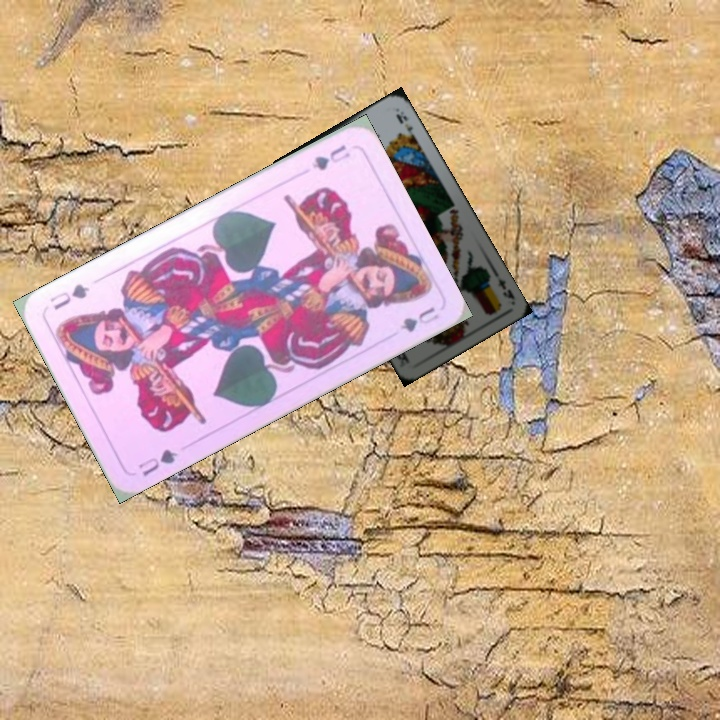EK: (489, 267, 517, 302)
GU: (134, 445, 181, 479), (307, 140, 353, 173)
